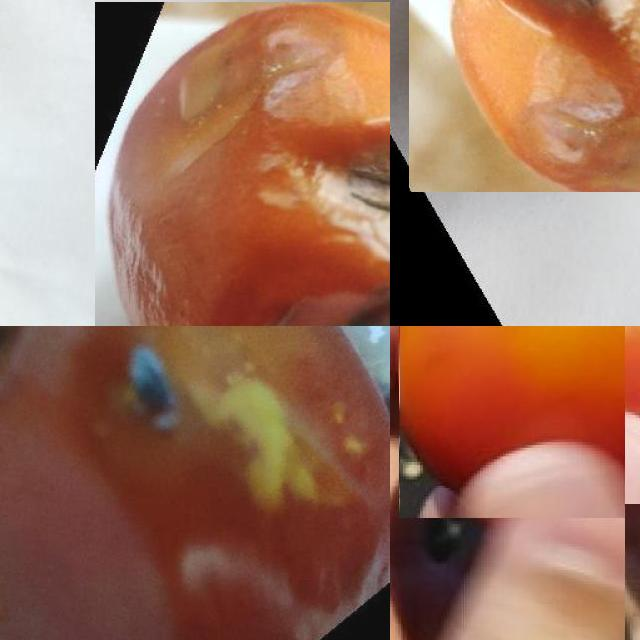Fresh Tomato: (399, 326, 625, 486)
Rotten Tomato: (0, 326, 390, 640), (95, 2, 390, 326), (408, 0, 640, 192)
